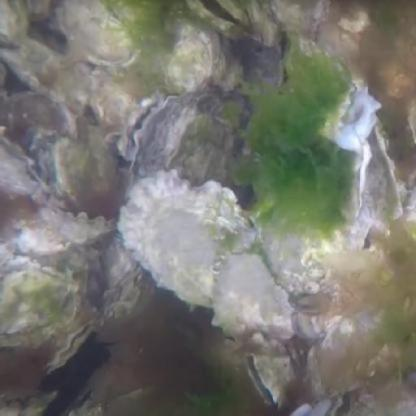Oyster- Indeterminate: (0, 253, 81, 343), (43, 303, 100, 376), (237, 349, 298, 414), (0, 125, 45, 202), (116, 97, 165, 160)
Oyster-Closed: (123, 170, 298, 338), (0, 34, 87, 112), (56, 0, 136, 71), (54, 133, 119, 219), (317, 321, 365, 400), (164, 27, 214, 100), (79, 69, 133, 135), (267, 0, 320, 39), (0, 0, 32, 44)
Oyster-Open: (356, 121, 402, 222), (317, 81, 376, 154), (183, 0, 249, 41)
